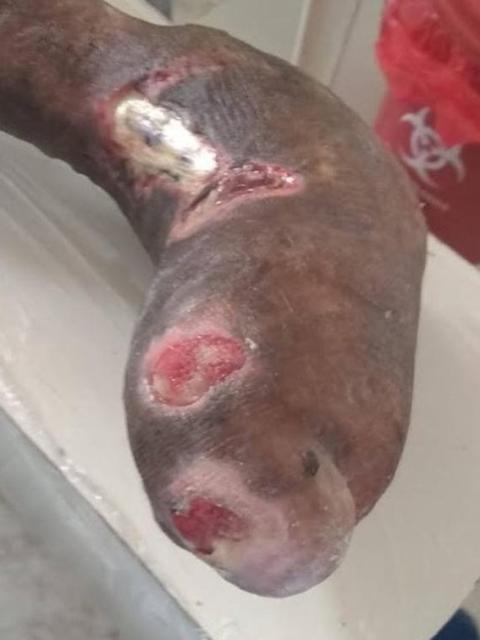wound: (97, 52, 303, 240), (144, 321, 243, 406), (169, 489, 252, 554)
